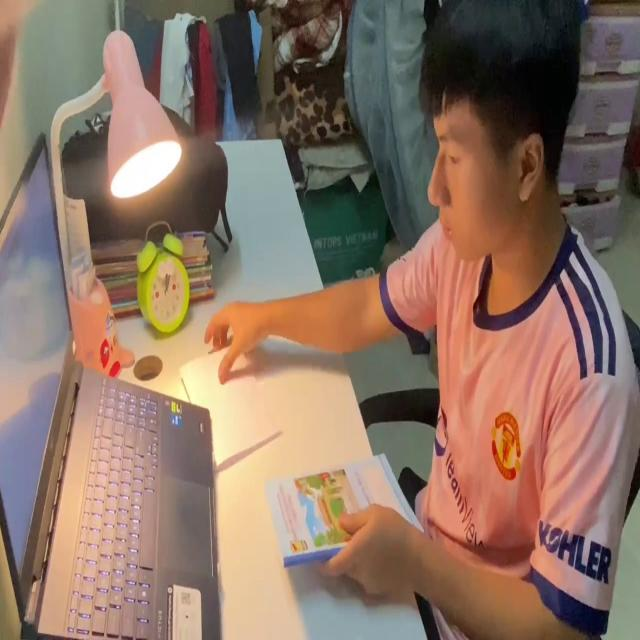book: (258, 450, 431, 574), (178, 339, 288, 470)
laptop: (0, 126, 222, 640)
student: (204, 0, 640, 640)
